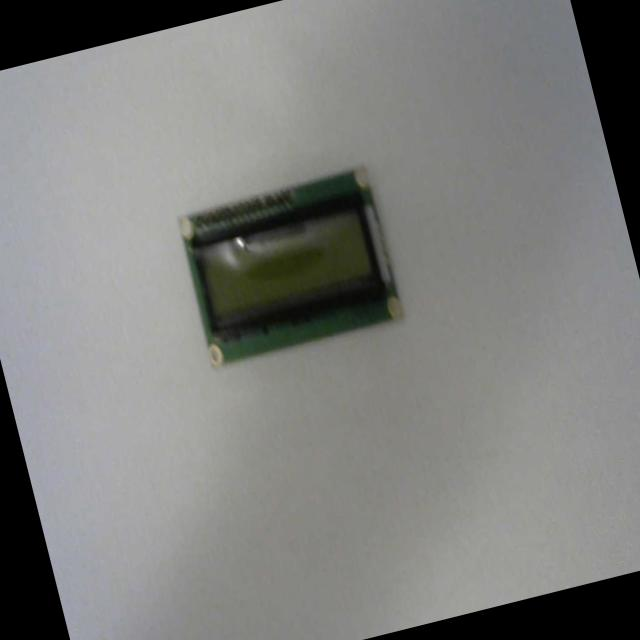lcd: (166, 153, 415, 378)
